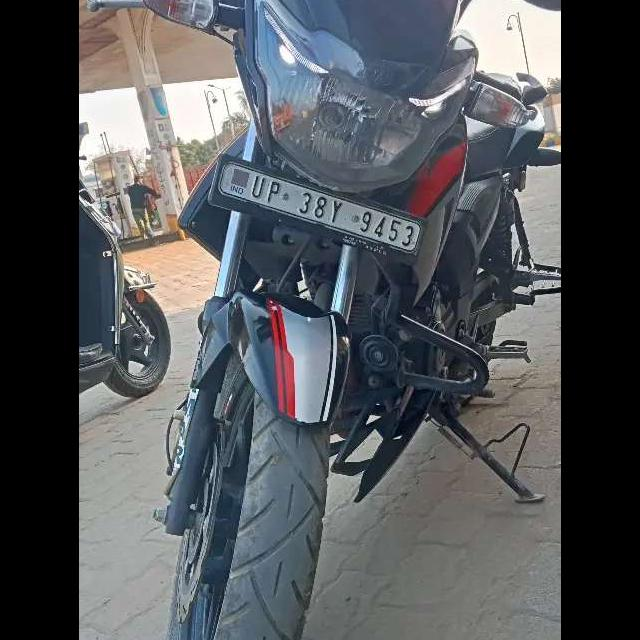Indian_Number_Plate: (213, 157, 427, 260)
